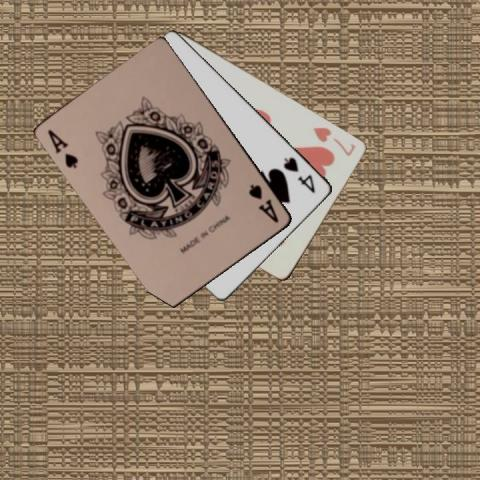4s: (281, 154, 317, 195)
7h: (311, 124, 357, 157)
As: (246, 181, 281, 224), (45, 127, 80, 170)
